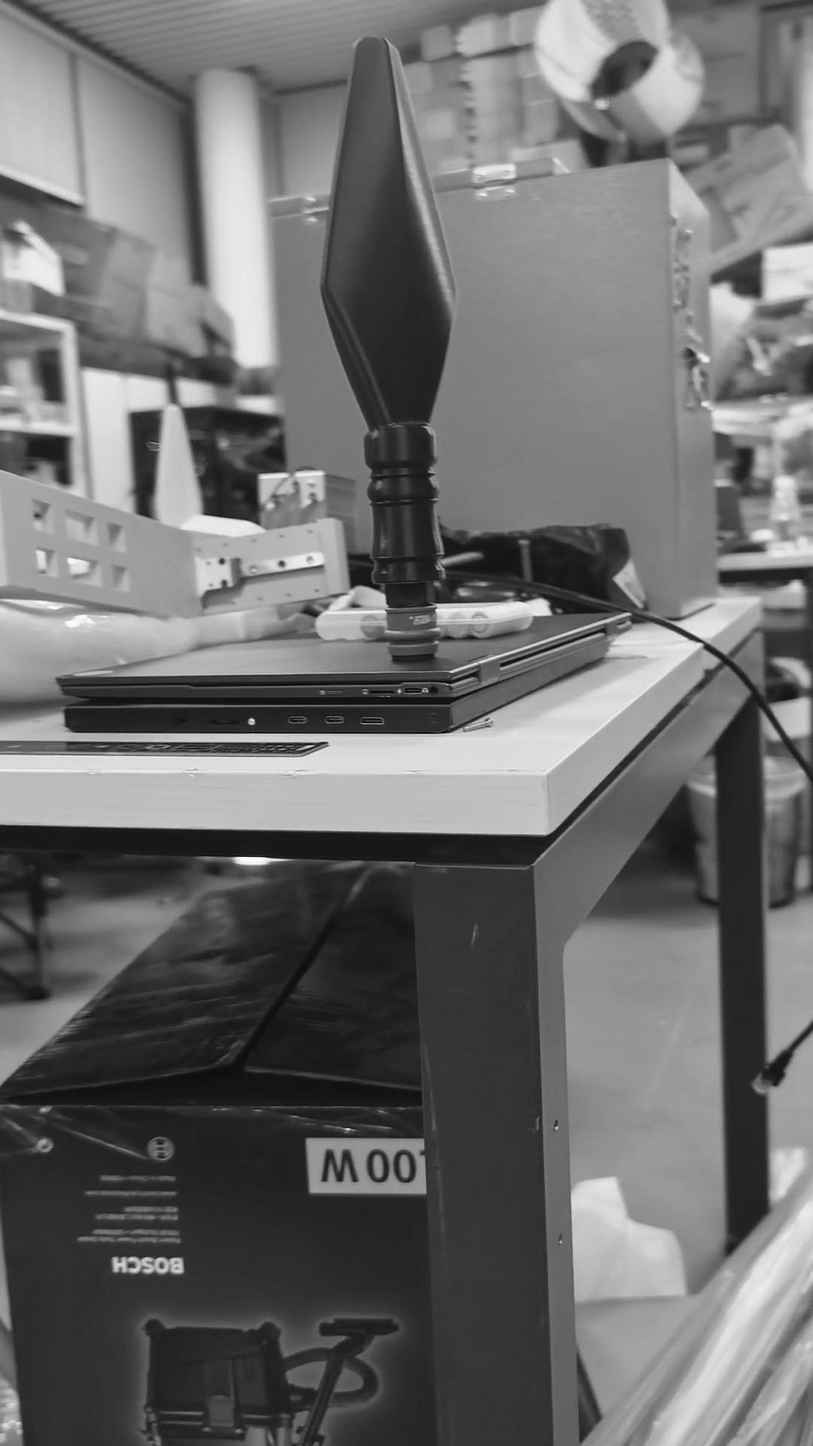base: (376, 598, 443, 667)
